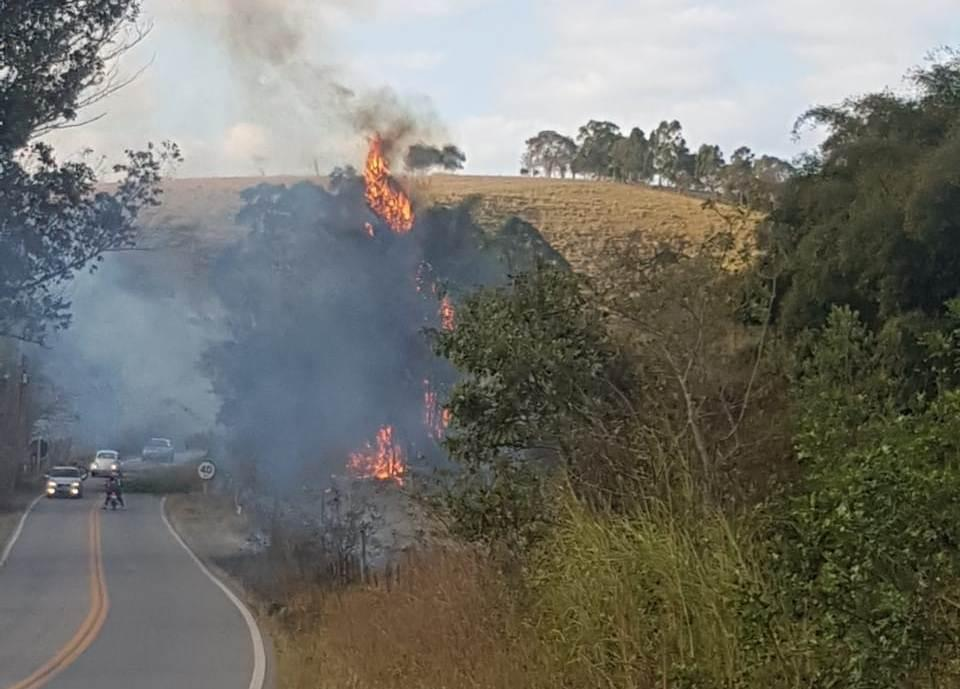fire: (362, 137, 422, 232), (347, 408, 415, 488)
smoke: (67, 307, 173, 435)
